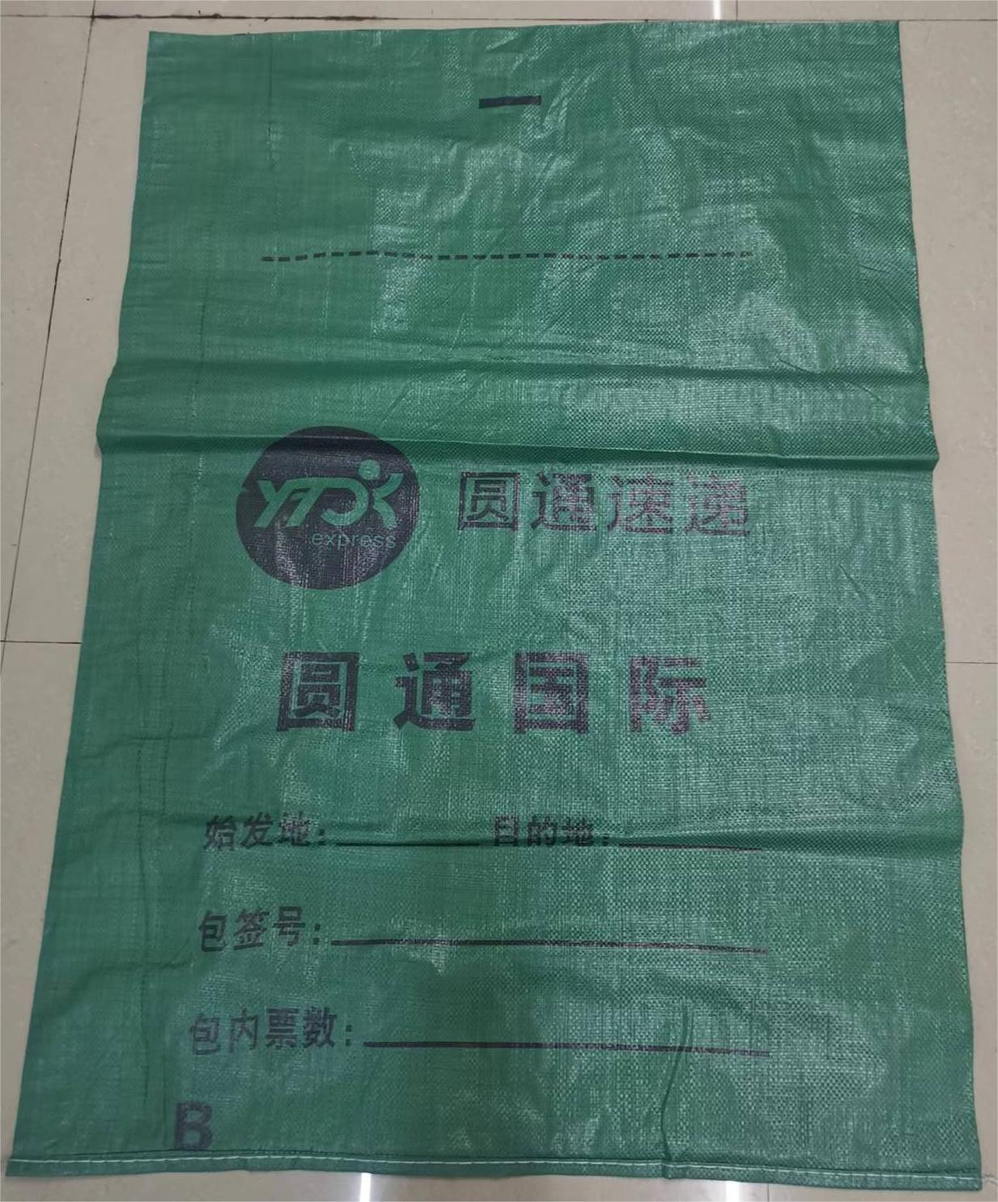Parcel: (14, 24, 979, 1188)
